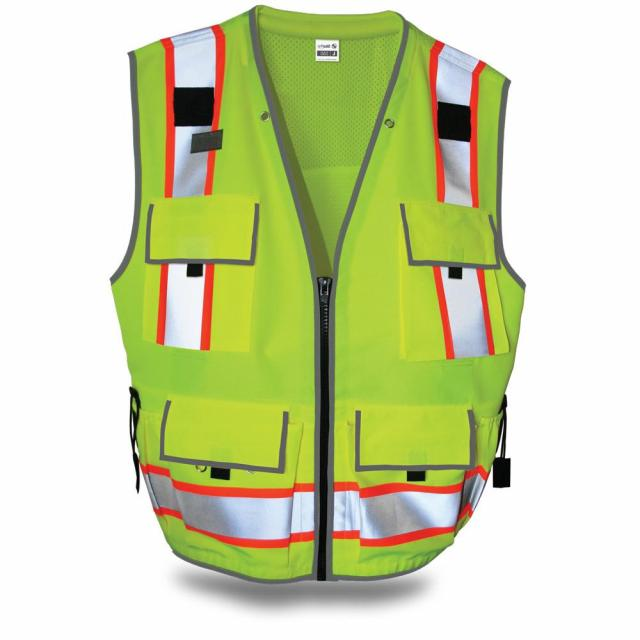Reflective-Jacket: (70, 11, 550, 613)
